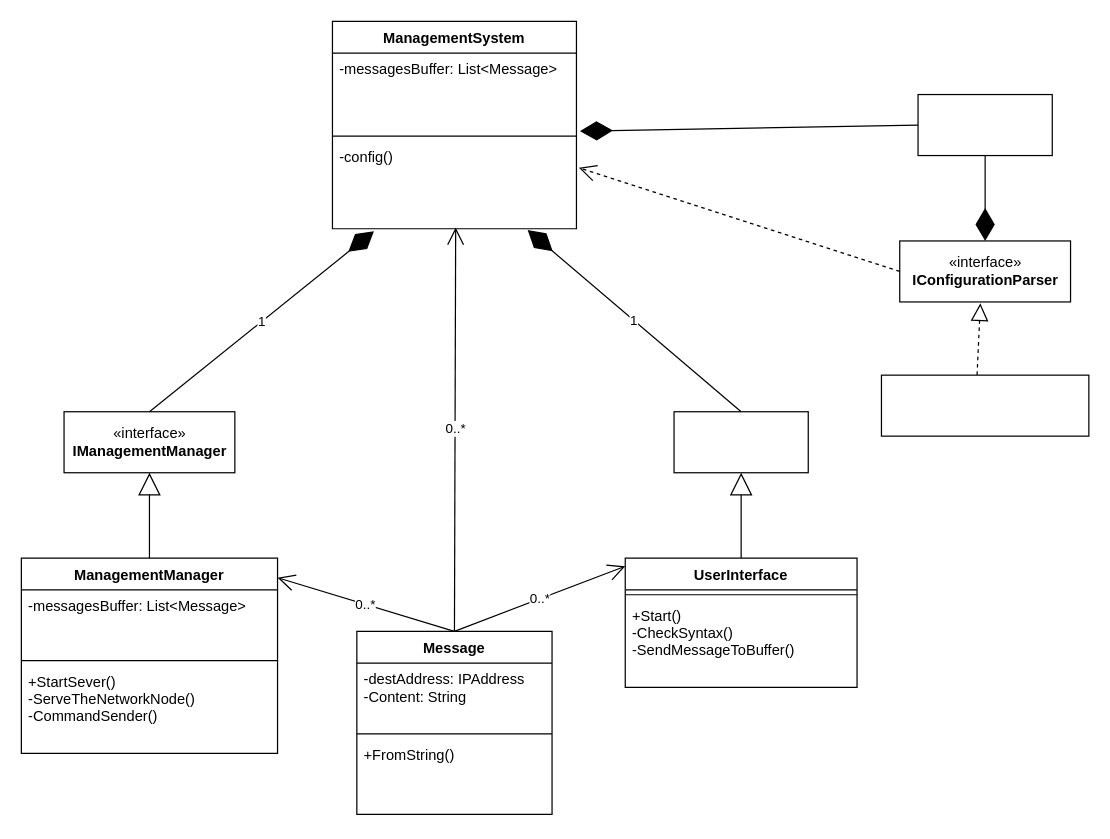
Image size: 1110x839. Some labels were removed from this diagram. Here are the shapes that lost their labels. From the top down, the centre of each, then its label:
the point at 984,124: Configuration
the point at 984,405: XmlConfigurationParser
the point at 740,442: «interface» IUserInterface
